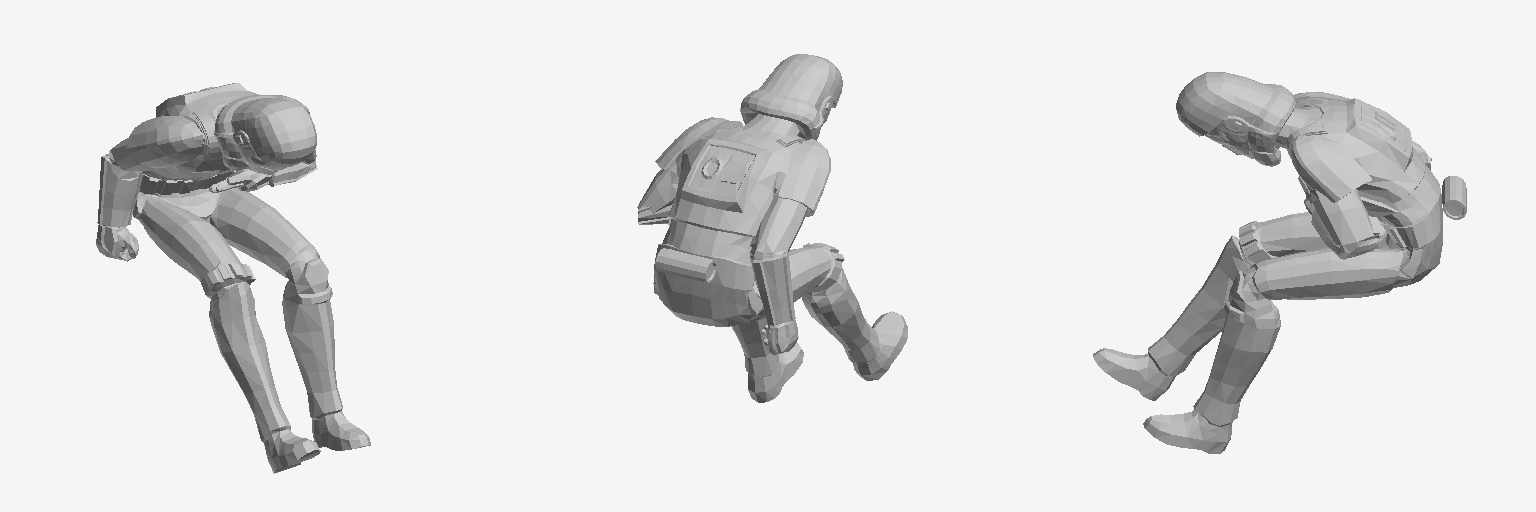
Rendered from Dead43.obj.
The picture shows the model from 3 angles: view 1: azimuth 30°, elevation 25°; view 2: azimuth 150°, elevation 25°; view 3: azimuth 270°, elevation 25°; orthographic projection.
Parts seen in each view (by area): view 1: Stormtrooper.001_Stormtrooper; view 2: Stormtrooper.001_Stormtrooper; view 3: Stormtrooper.001_Stormtrooper.
Boxes of the visible parts, x1=… form: Stormtrooper.001_Stormtrooper: x1=96, y1=83, x2=370, y2=473; Stormtrooper.001_Stormtrooper: x1=637, y1=54, x2=907, y2=402; Stormtrooper.001_Stormtrooper: x1=1093, y1=72, x2=1466, y2=453.
Size of the model in its own units: 1.37 by 2.51 by 2.41.